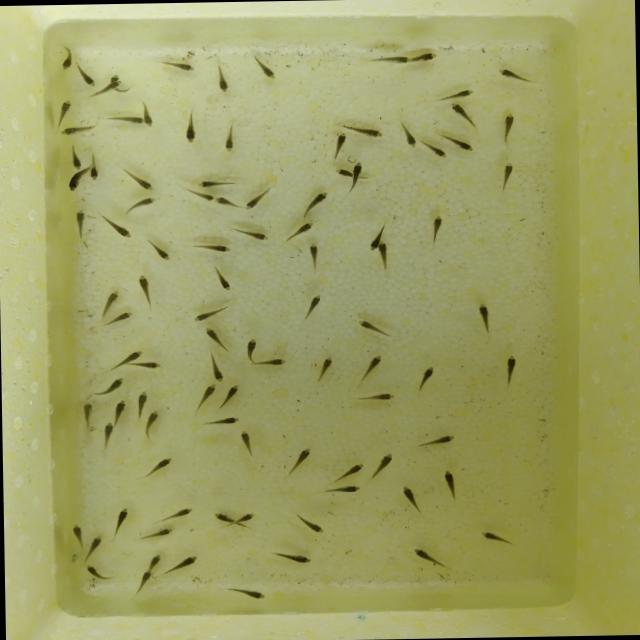fingerling: (350, 350, 389, 388), (363, 446, 400, 486), (159, 550, 204, 580), (269, 542, 314, 571), (138, 451, 178, 483), (244, 50, 282, 83), (282, 442, 316, 478), (296, 188, 334, 220), (407, 546, 453, 572), (354, 315, 396, 343), (433, 465, 462, 505), (492, 65, 542, 88), (470, 297, 498, 338), (278, 216, 322, 242), (132, 270, 160, 310), (218, 581, 272, 601), (131, 522, 180, 544), (108, 502, 134, 543), (299, 288, 326, 326), (201, 321, 232, 354), (206, 260, 236, 294), (190, 381, 220, 415), (309, 352, 337, 388), (290, 510, 326, 538), (422, 210, 449, 247), (242, 181, 273, 213), (154, 502, 201, 523), (142, 234, 176, 263), (500, 347, 524, 388), (154, 56, 198, 78), (416, 431, 460, 453), (412, 362, 442, 394), (123, 166, 157, 194), (97, 212, 131, 240), (185, 237, 232, 257), (447, 102, 480, 130), (87, 374, 128, 396), (188, 304, 233, 324), (351, 387, 400, 405), (496, 108, 518, 148), (320, 479, 366, 498), (495, 158, 518, 196), (397, 483, 424, 515), (324, 129, 350, 162), (84, 562, 118, 586), (181, 107, 203, 144), (333, 459, 368, 482), (122, 194, 160, 215), (236, 426, 260, 459), (476, 527, 512, 549), (230, 223, 271, 242), (210, 61, 232, 95), (301, 240, 323, 274), (142, 408, 164, 442), (59, 122, 103, 138), (98, 420, 120, 452), (71, 203, 90, 240), (395, 120, 418, 150), (205, 352, 228, 382), (86, 533, 108, 564), (69, 519, 87, 556), (200, 412, 247, 426), (103, 112, 144, 128), (432, 87, 478, 101), (73, 62, 96, 90), (51, 98, 74, 126), (220, 122, 240, 154), (257, 352, 293, 369), (56, 43, 76, 73), (101, 285, 124, 311), (80, 399, 98, 432), (367, 53, 412, 66), (182, 186, 214, 204), (241, 334, 262, 361), (214, 194, 244, 212), (111, 308, 138, 328), (136, 356, 166, 374), (132, 386, 148, 419), (352, 125, 386, 140), (110, 397, 130, 422), (65, 144, 84, 170), (137, 568, 155, 595), (423, 140, 447, 160), (192, 178, 239, 188), (224, 381, 242, 406), (414, 50, 442, 66), (376, 240, 389, 274), (452, 135, 476, 153), (64, 172, 84, 193), (142, 99, 154, 128), (238, 508, 258, 524), (124, 348, 144, 363), (208, 510, 232, 522), (145, 551, 161, 567), (332, 164, 350, 178), (350, 158, 366, 173), (88, 168, 101, 184), (106, 80, 125, 89), (367, 239, 377, 251), (108, 72, 120, 81)
